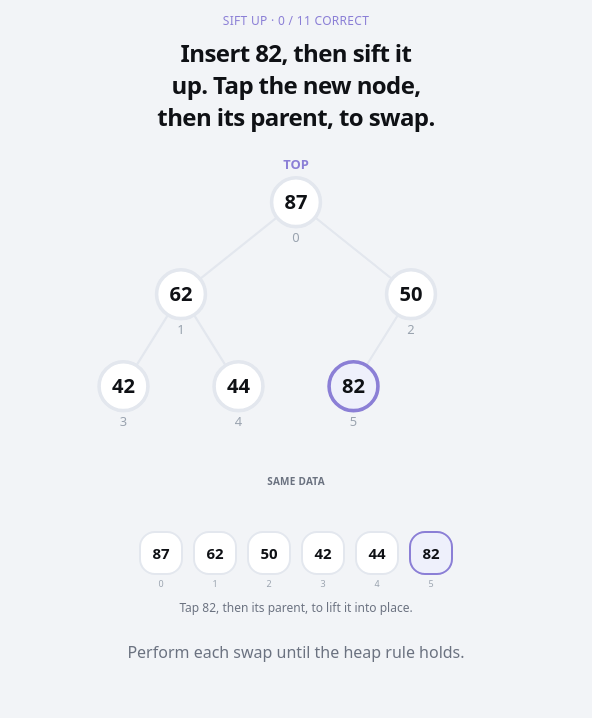
Test: do-the-sift (active sift-up mechanic) › a wrong swap nudges and leaves the heap untouched (no fail wall)
// Tap the climbing key, then a slot that is not its parent: a wrong move.
Click the button "82": [431, 553] box [409,531,453,575]
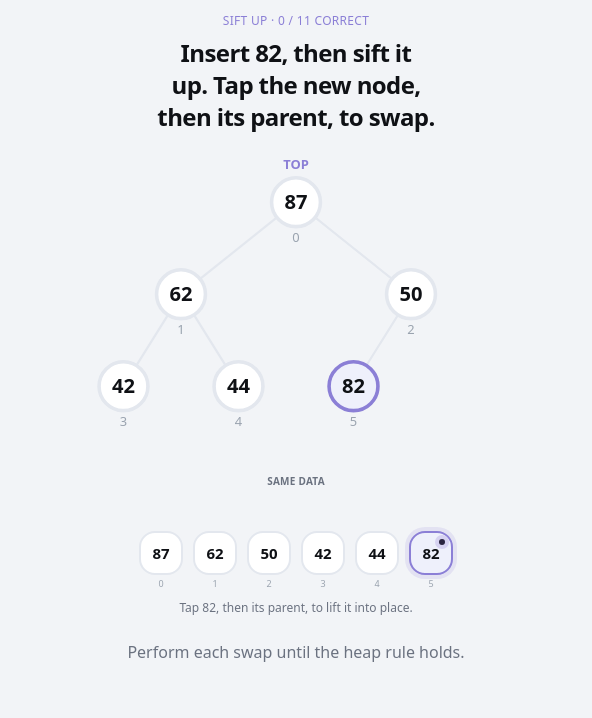
Click the button "87": [161, 553] box [139,531,183,575]
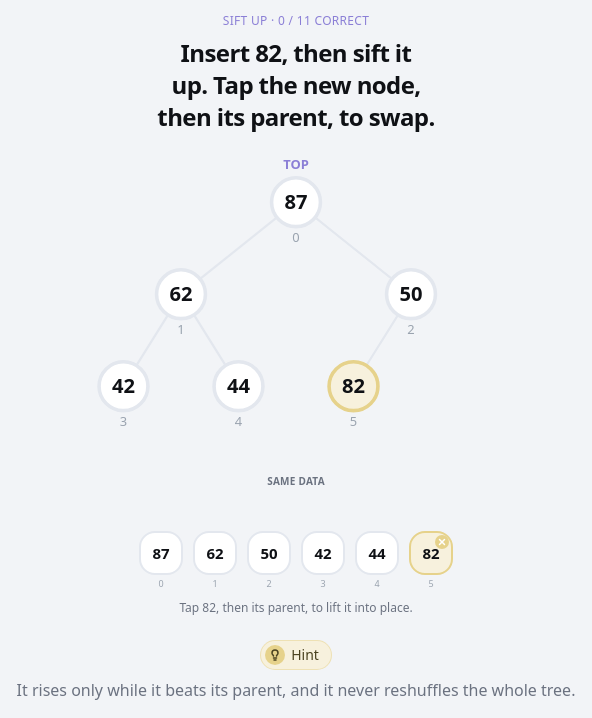
Expected: the text "rises only while it beats its parent" is shown, [16,679,575,701]
